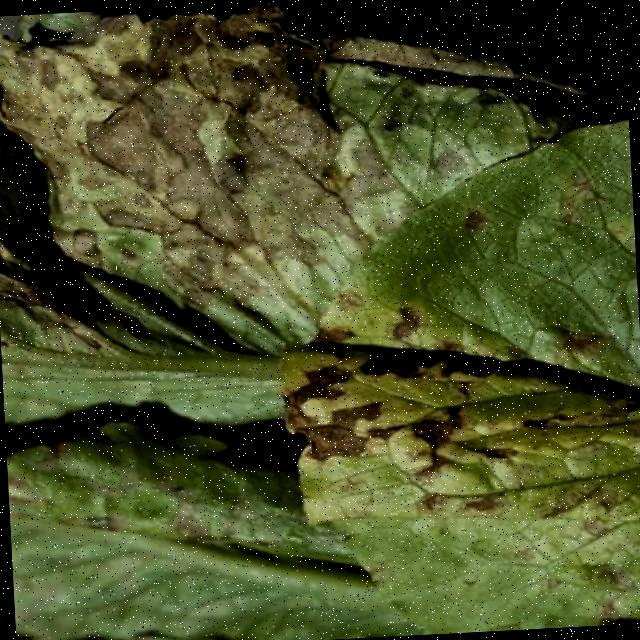Septoria_Blight_on_lettuce: (303, 290, 614, 524)
